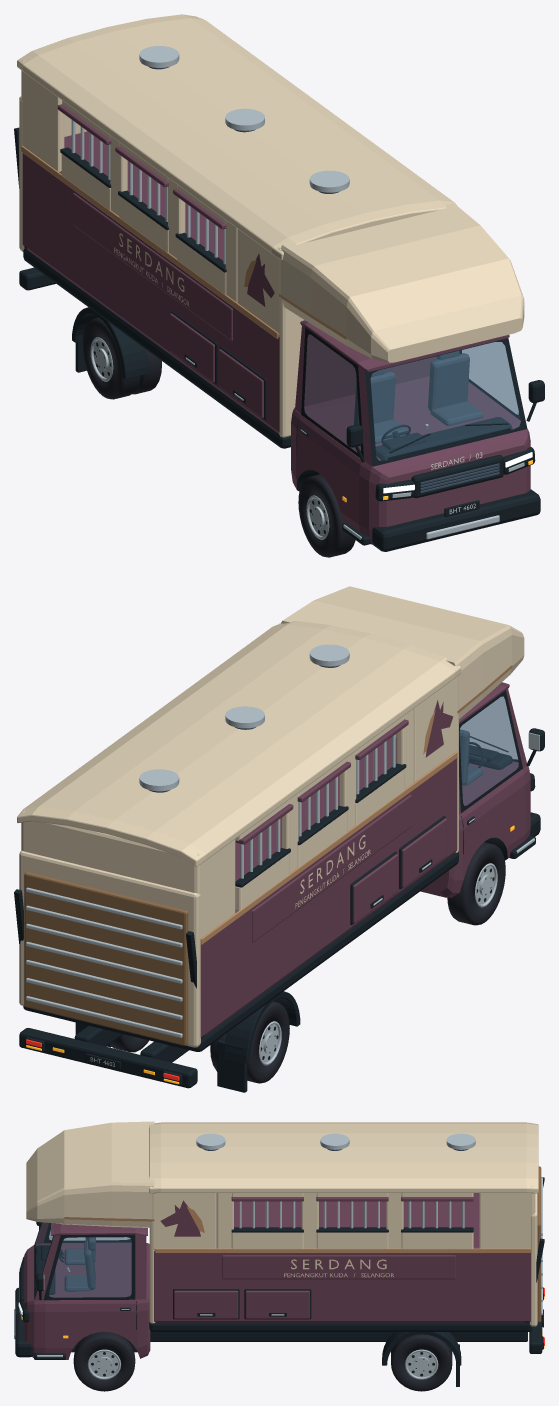
The picture shows the model from 3 angles, top to bottom: view 1: azimuth 30°, elevation 25°; view 2: azimuth 150°, elevation 25°; view 3: azimuth 270°, elevation 25°; orthographic projection. The views are drawn at different scales.
Visible parts, largest first — view 1: Serdang Horsebox; view 2: Serdang Horsebox; view 3: Serdang Horsebox.
Part boxes in pixels (x1,y1,x2,y2): Serdang Horsebox: [14, 14, 544, 557]; Serdang Horsebox: [14, 586, 544, 1092]; Serdang Horsebox: [14, 1121, 544, 1391].
Bounding box in the file's own units: 2.53 × 3.74 × 8.08.
